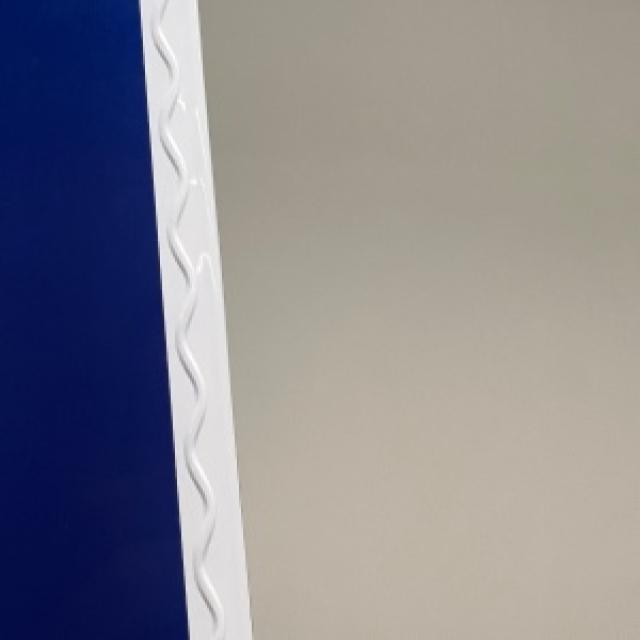healthy: (139, 0, 247, 638)
